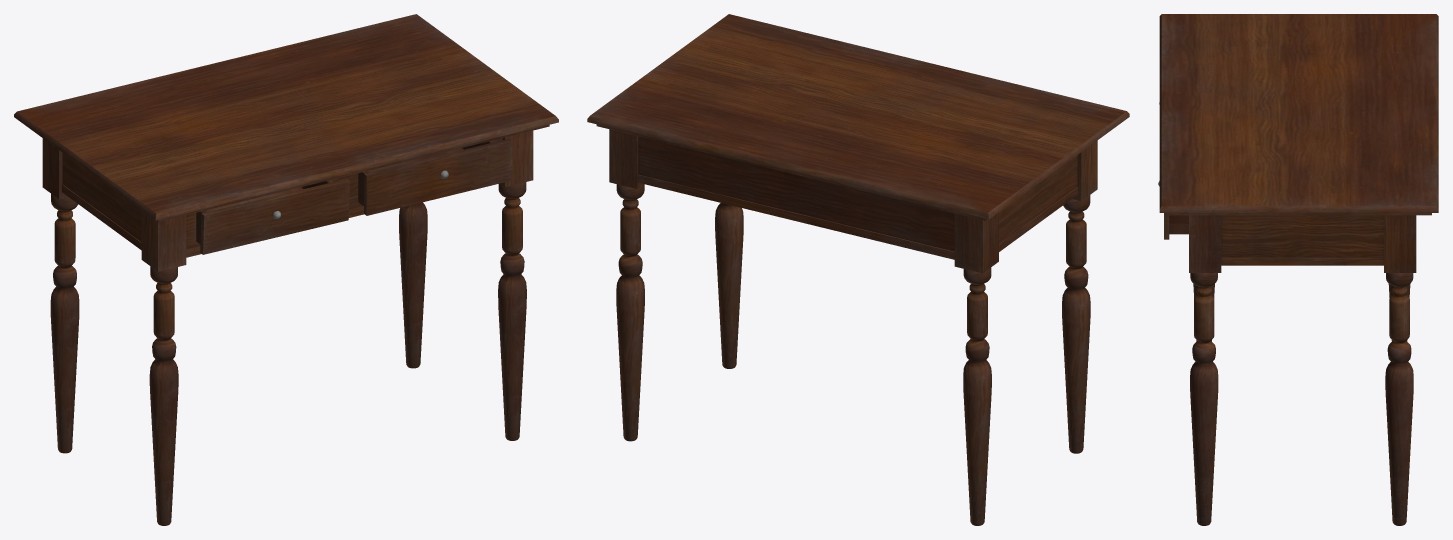
Rendered from 11aee464-c648-4950-84a2-095c0284c6f1.glb.
The picture shows the model from 3 angles, left to right: view 1: azimuth 30°, elevation 25°; view 2: azimuth 150°, elevation 25°; view 3: azimuth 270°, elevation 25°; orthographic projection.
Visible parts, largest first — view 1: ds; view 2: ds; view 3: ds.
Part boxes in pixels (x1=…): ds: x1=14, y1=14, x2=558, y2=525; ds: x1=587, y1=14, x2=1129, y2=525; ds: x1=1158, y1=14, x2=1438, y2=525.
Size of the model in its own units: 1.05 by 0.8293 by 0.6427.
1 material, 1 textured.
